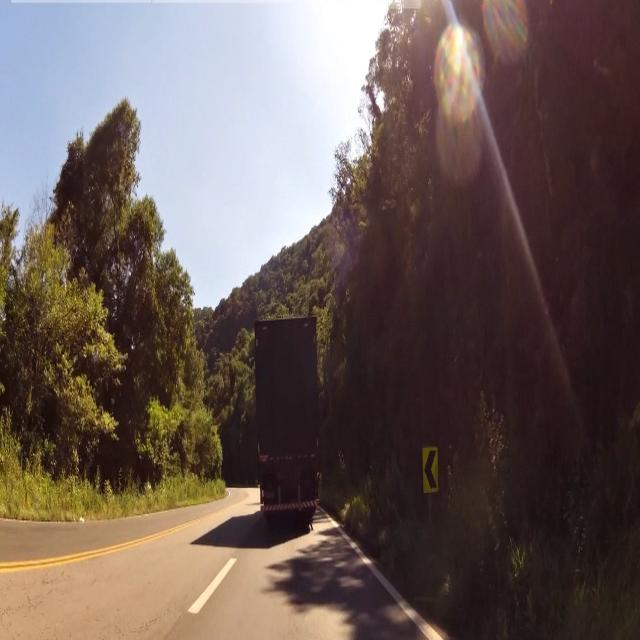Del: (421, 446, 438, 494)
